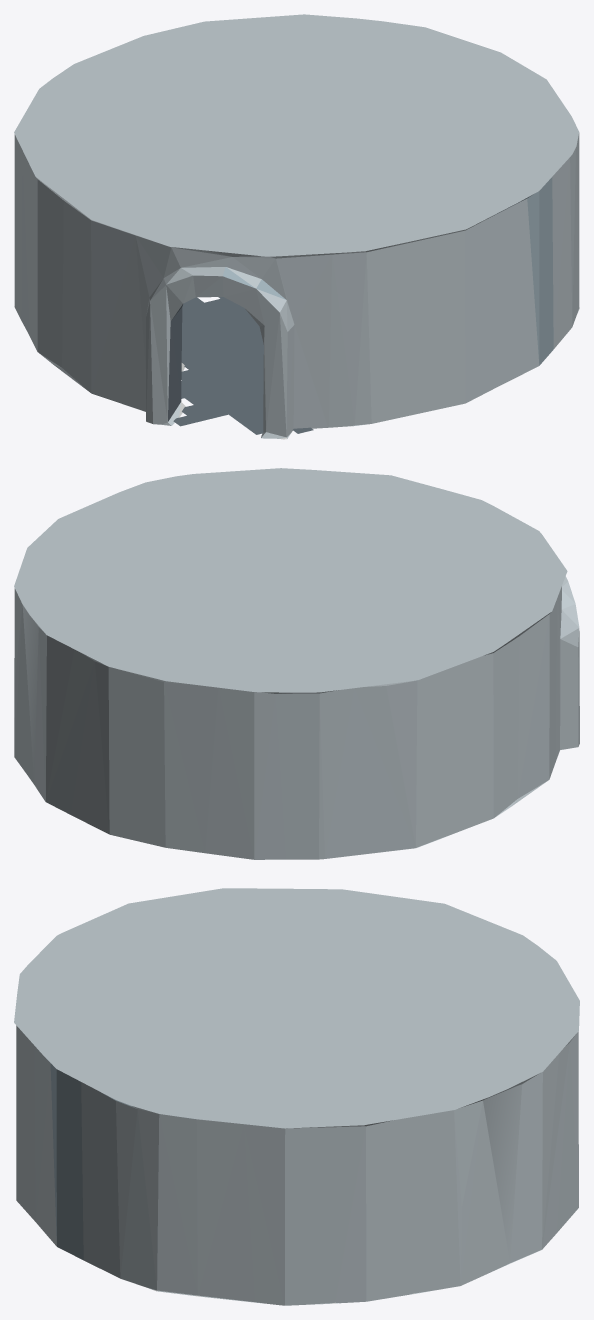
The model's file is etape-1.glb.
3 renders of one model, top to bottom at view 1: azimuth 30°, elevation 25°; view 2: azimuth 150°, elevation 25°; view 3: azimuth 270°, elevation 25°, orthographic. The views are drawn at different scales.
Parts seen in each view (by area): view 1: geometry_0; view 2: geometry_0; view 3: geometry_0.
Part boxes in pixels (x1,y1,x2,y2): geometry_0: (14,14,579,439); geometry_0: (14,468,579,859); geometry_0: (14,888,579,1305).
Size of the model in its own units: 0.7882 by 0.2717 by 0.7845.
